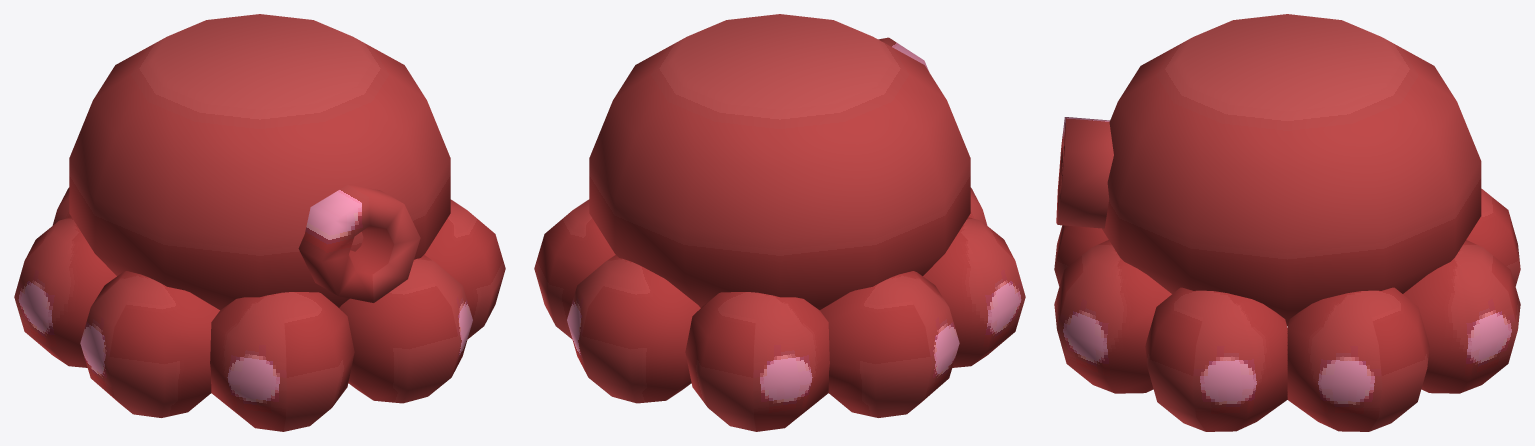
File: int_fis_stool.dae
3 renders of one model, left to right at view 1: azimuth 30°, elevation 25°; view 2: azimuth 150°, elevation 25°; view 3: azimuth 270°, elevation 25°, orthographic.
Visible parts, largest first — view 1: int_fis_stool; view 2: int_fis_stool; view 3: int_fis_stool.
Part boxes in pixels (box(x1,y1,x2,y2)): int_fis_stool: box(14, 14, 505, 431); int_fis_stool: box(534, 14, 1025, 431); int_fis_stool: box(1054, 14, 1520, 431).
Bounding box in the file's own units: 22.64 × 15.48 × 22.64.
1 material, 1 textured.
